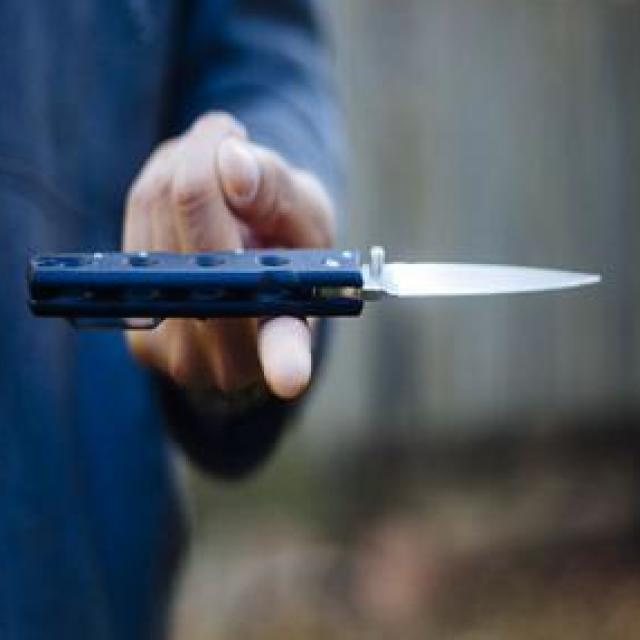knife: (212, 101, 611, 407)
